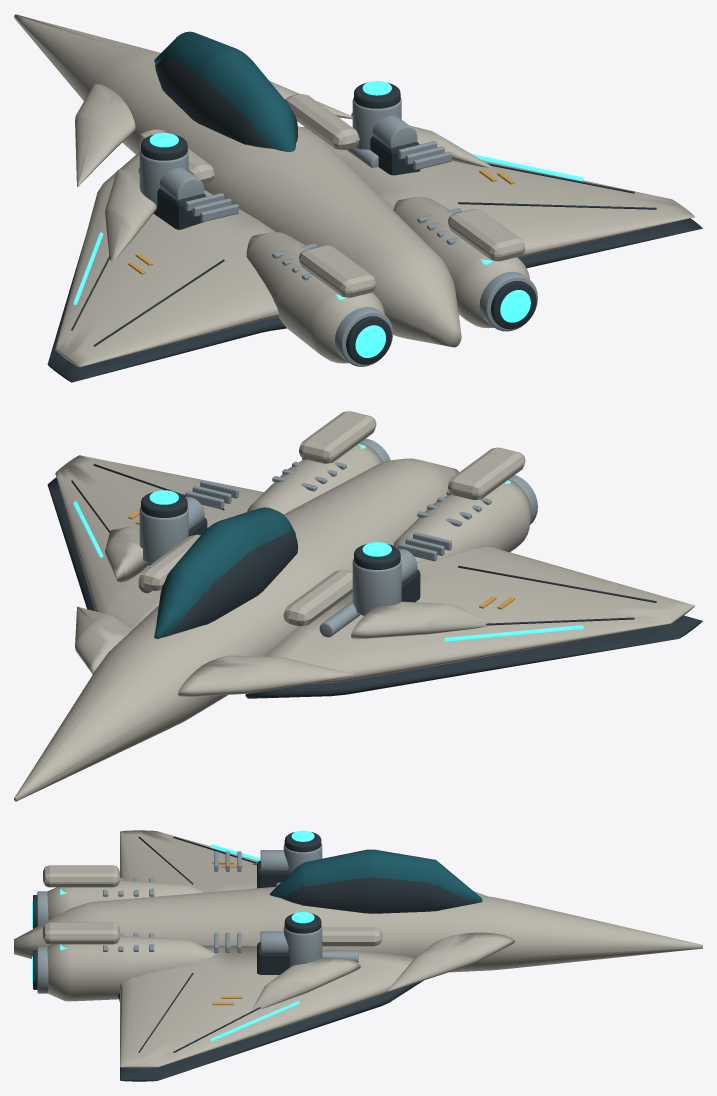
File: common-2.glb
The picture shows the model from 3 angles, top to bottom: view 1: azimuth 30°, elevation 25°; view 2: azimuth 150°, elevation 25°; view 3: azimuth 270°, elevation 25°; orthographic projection. The views are drawn at different scales.
Visible parts, largest first — view 1: SM_Hull, SM_Wing_Left, SM_Wing_Right, SM_Engine_Left, SM_Engine_Right, SM_Stage03, SM_Stage04, SM_Stage01, SM_Stage02; view 2: SM_Hull, SM_Wing_Left, SM_Wing_Right, SM_Stage03, SM_Engine_Left, SM_Stage04, SM_Stage02, SM_Engine_Right, SM_Stage01, SM_Weapon_Left; view 3: SM_Hull, SM_Wing_Right, SM_Engine_Right, SM_Wing_Left, SM_Stage03, SM_Engine_Left, SM_Stage04, SM_Stage02, SM_Stage01.
Boxes of the visible parts, box(x1,y1,x2,y2) form: SM_Hull: box(14, 14, 461, 347); SM_Wing_Left: box(47, 84, 286, 382); SM_Wing_Right: box(269, 81, 702, 268); SM_Engine_Left: box(246, 232, 393, 366); SM_Engine_Right: box(393, 197, 537, 331); SM_Stage03: box(185, 141, 525, 297); SM_Stage04: box(139, 81, 401, 206); SM_Stage01: box(153, 115, 420, 229); SM_Stage02: box(105, 113, 493, 260); SM_Hull: box(14, 458, 458, 801); SM_Wing_Left: box(178, 547, 702, 698); SM_Wing_Right: box(47, 455, 263, 674); SM_Stage03: box(185, 411, 525, 561); SM_Engine_Left: box(393, 475, 537, 562); SM_Stage04: box(139, 490, 401, 615); SM_Stage02: box(105, 526, 493, 639); SM_Engine_Right: box(247, 438, 390, 514); SM_Stage01: box(148, 497, 420, 602); SM_Weapon_Left: box(319, 601, 359, 637); SM_Hull: box(14, 849, 702, 972); SM_Wing_Right: box(117, 932, 514, 1081); SM_Engine_Right: box(32, 933, 214, 1001); SM_Wing_Left: box(120, 830, 487, 896); SM_Stage03: box(43, 851, 241, 952); SM_Engine_Left: box(32, 878, 205, 928); SM_Stage04: box(283, 830, 322, 966); SM_Stage02: box(252, 863, 360, 1010); SM_Stage01: box(257, 850, 289, 974).
Size of the model in its own units: 5.92 by 1.39 by 7.15.
